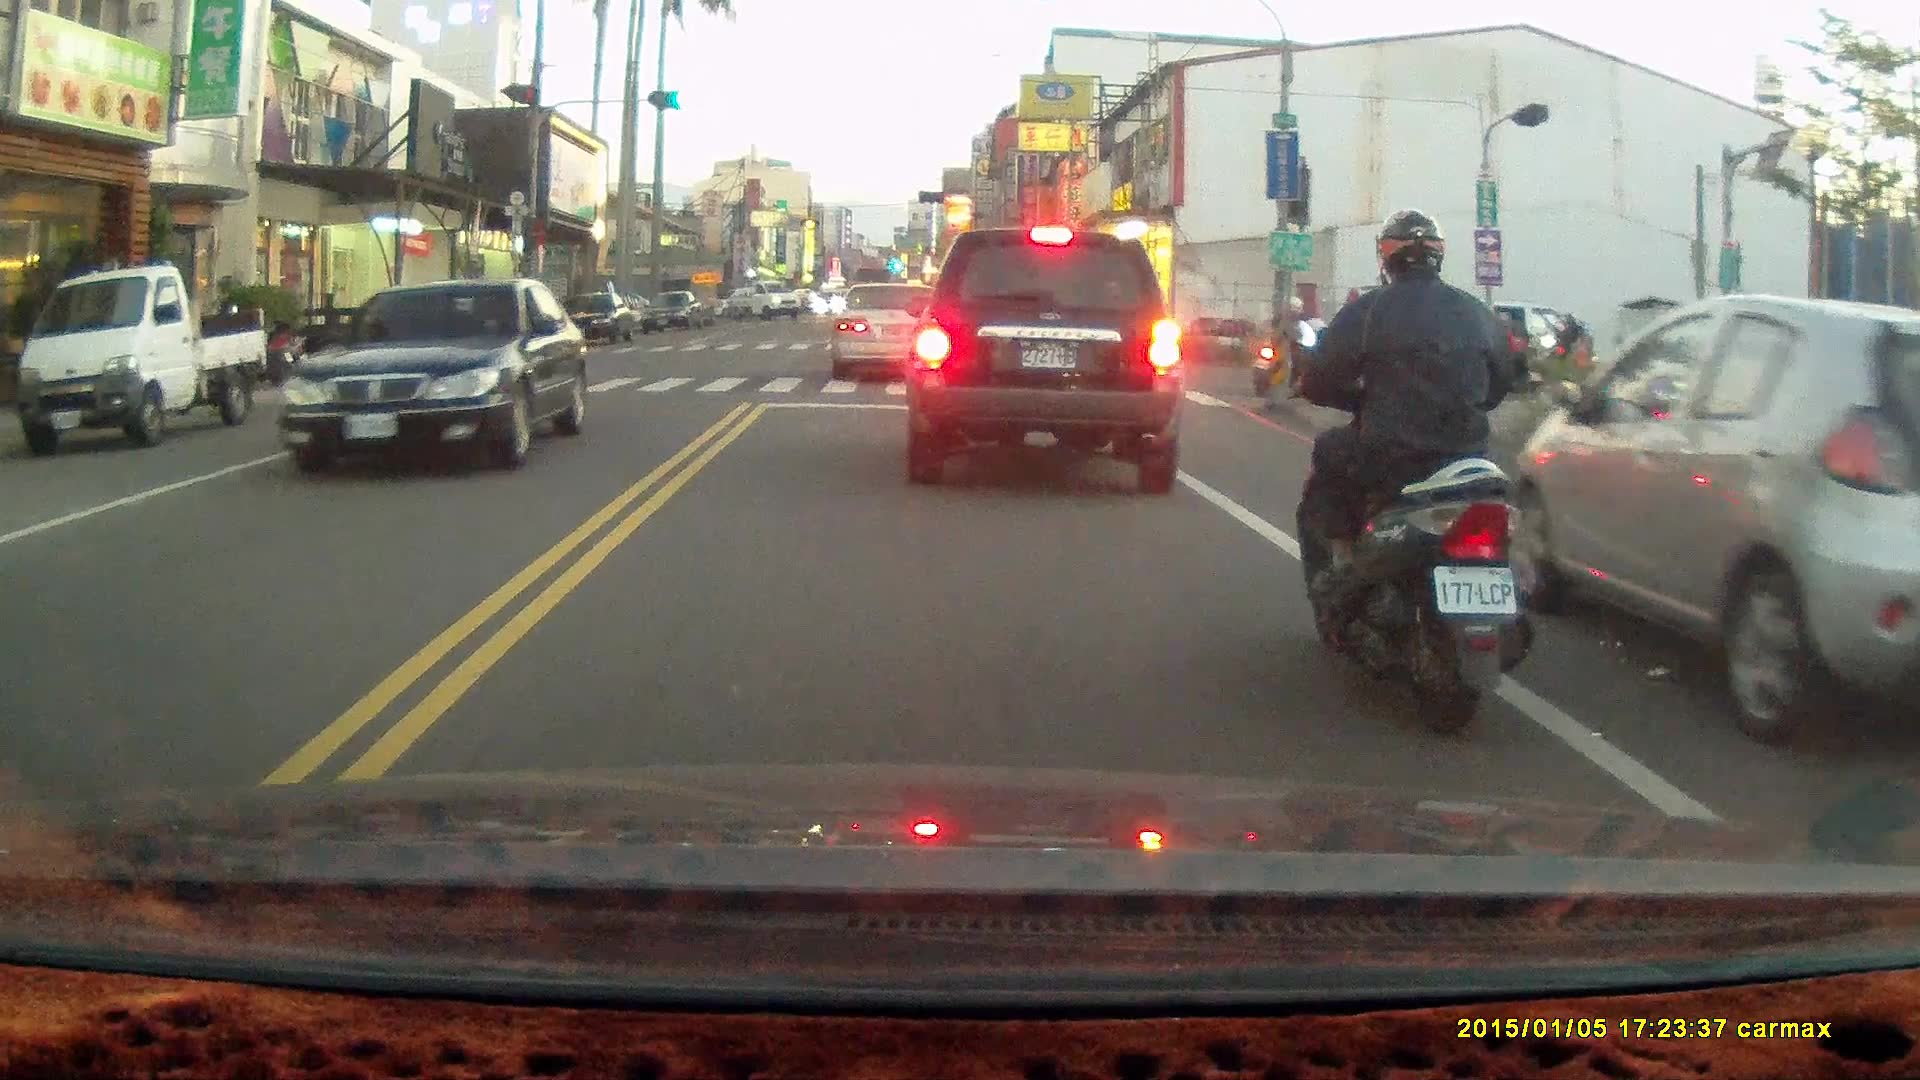rider: (1279, 209, 1539, 741), (1254, 297, 1337, 397), (1526, 312, 1596, 395)
vehicle: (1508, 296, 1920, 754), (902, 225, 1186, 497), (269, 277, 593, 476), (6, 268, 267, 457), (831, 282, 942, 380), (555, 292, 640, 349), (639, 291, 708, 336)
